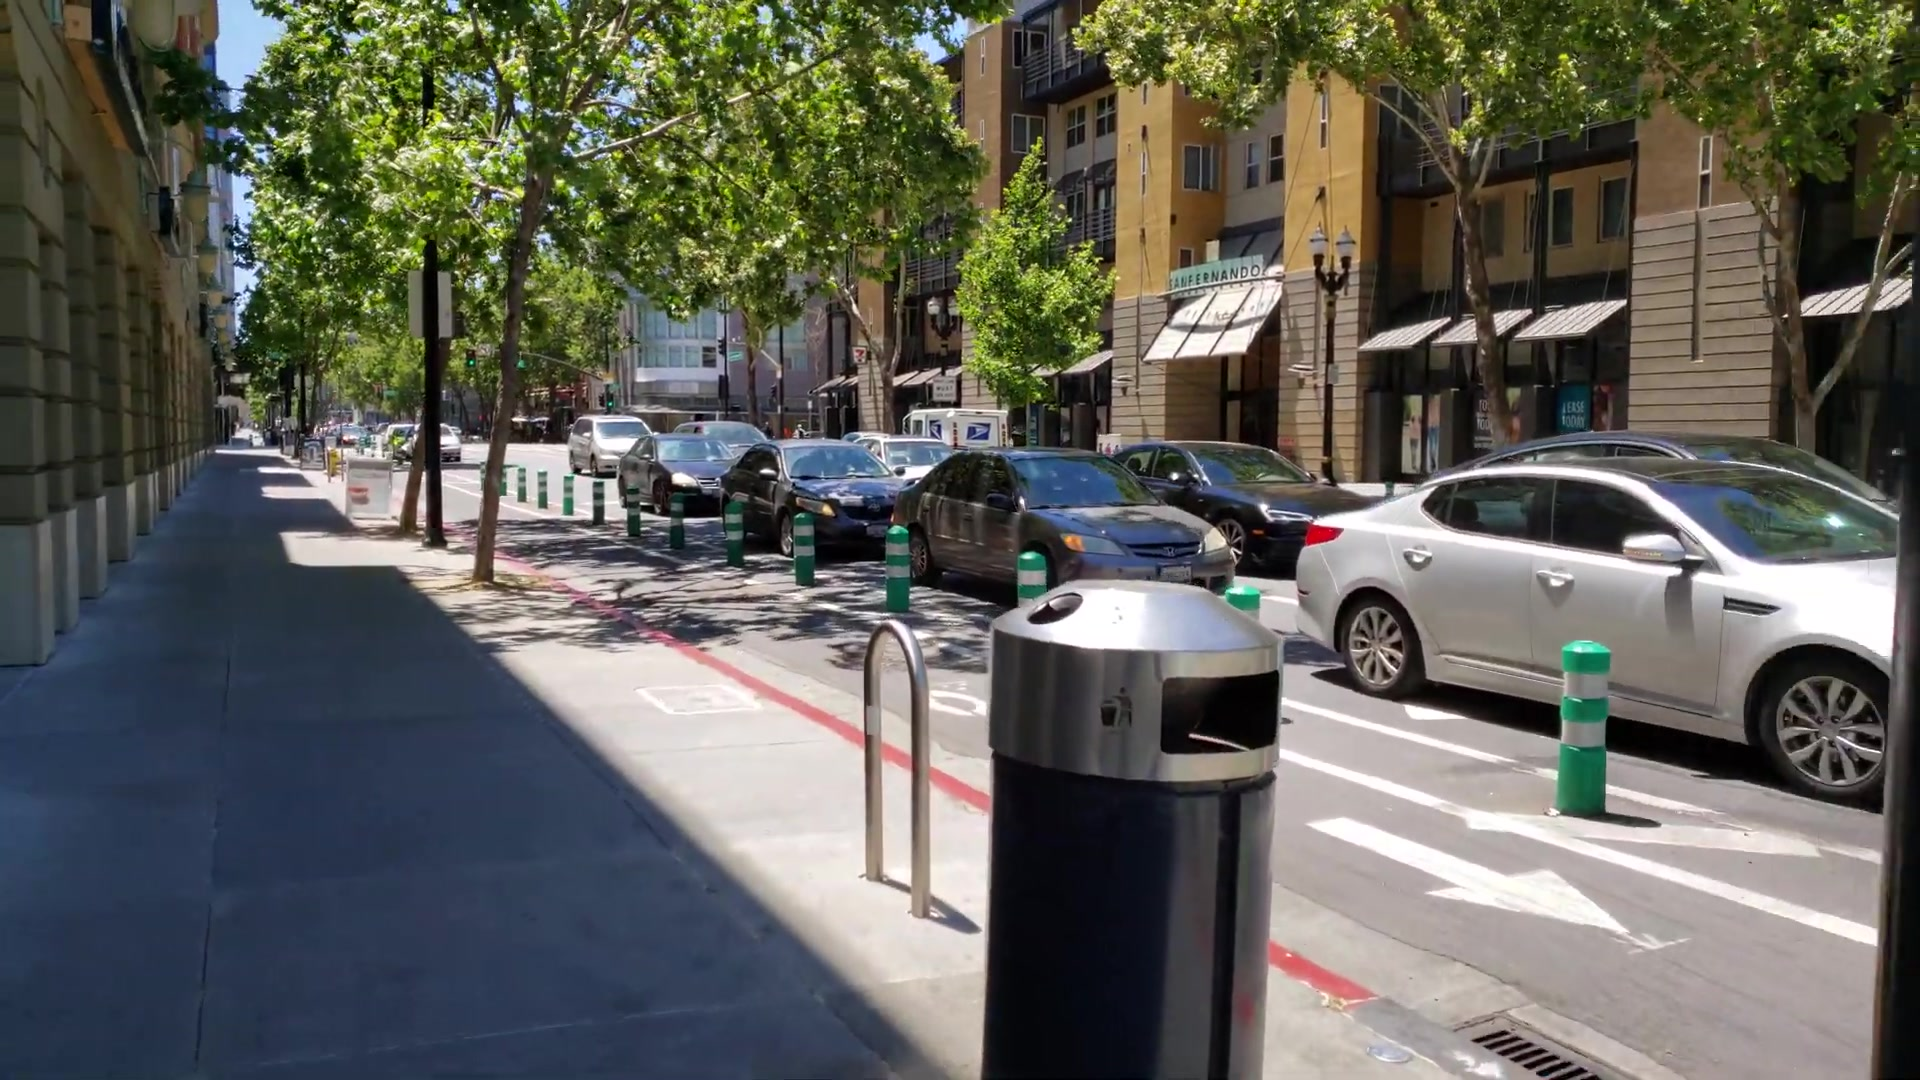vehicle: (1294, 459, 1887, 800), (894, 446, 1233, 611), (719, 440, 906, 549), (621, 433, 737, 506)
